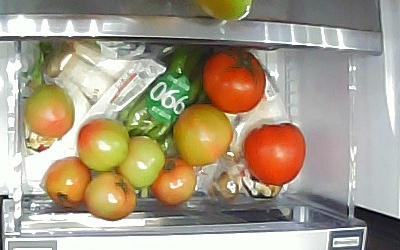tomato: (242, 123, 307, 186), (204, 49, 267, 114), (173, 103, 233, 166), (24, 85, 75, 140), (78, 120, 129, 172), (85, 171, 137, 221), (45, 157, 91, 209), (119, 137, 165, 187), (152, 158, 197, 206)
